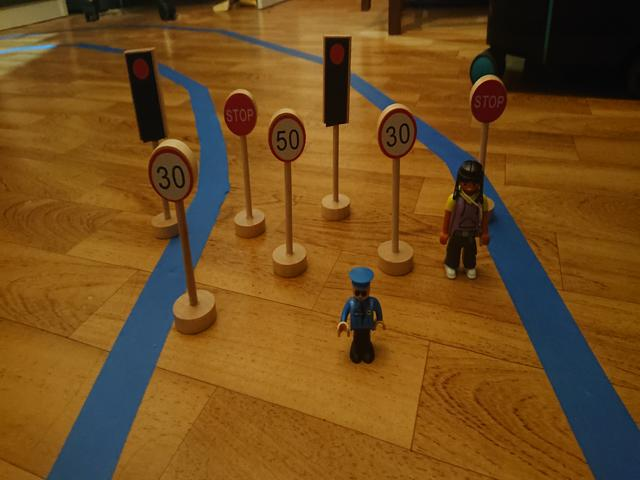30 speed sign: (146, 145, 195, 203), (376, 105, 417, 160)
50 speed sign: (267, 115, 308, 163)
person: (437, 162, 494, 279), (331, 263, 387, 364)
red light: (128, 53, 158, 136), (325, 41, 349, 117)
stop sign: (469, 78, 508, 126), (221, 92, 257, 138)
